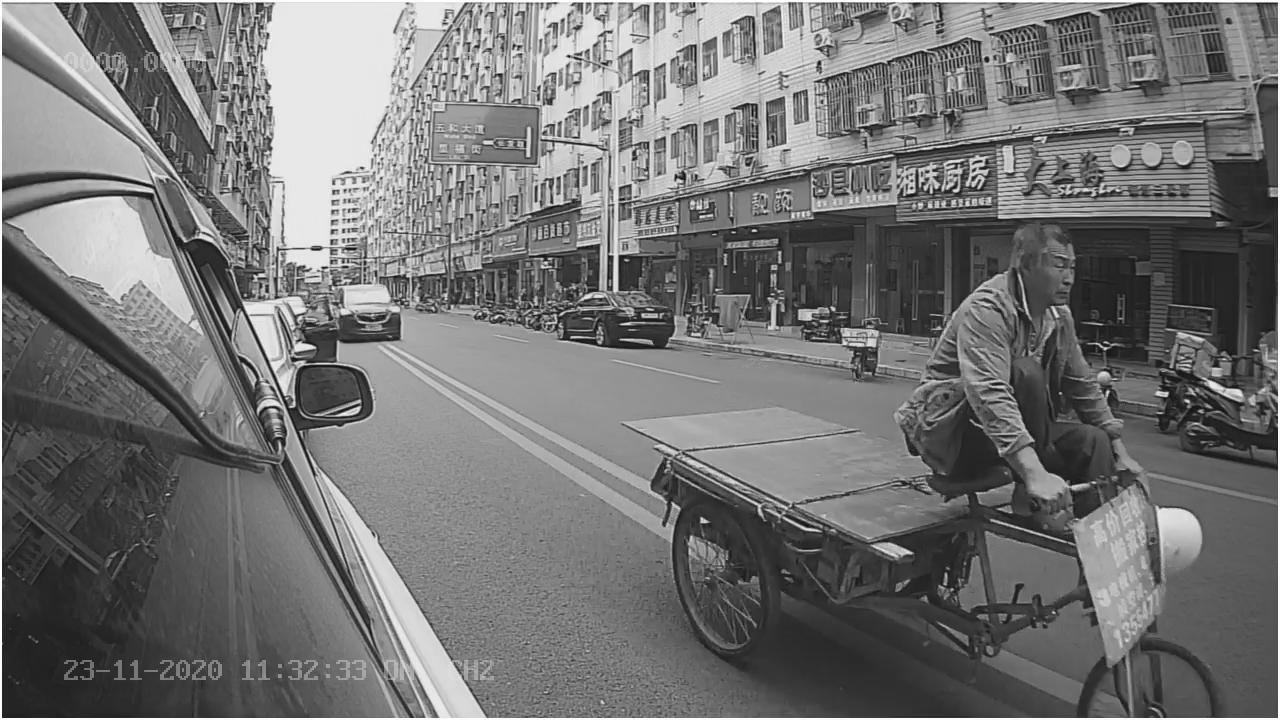person: (904, 199, 1147, 511)
